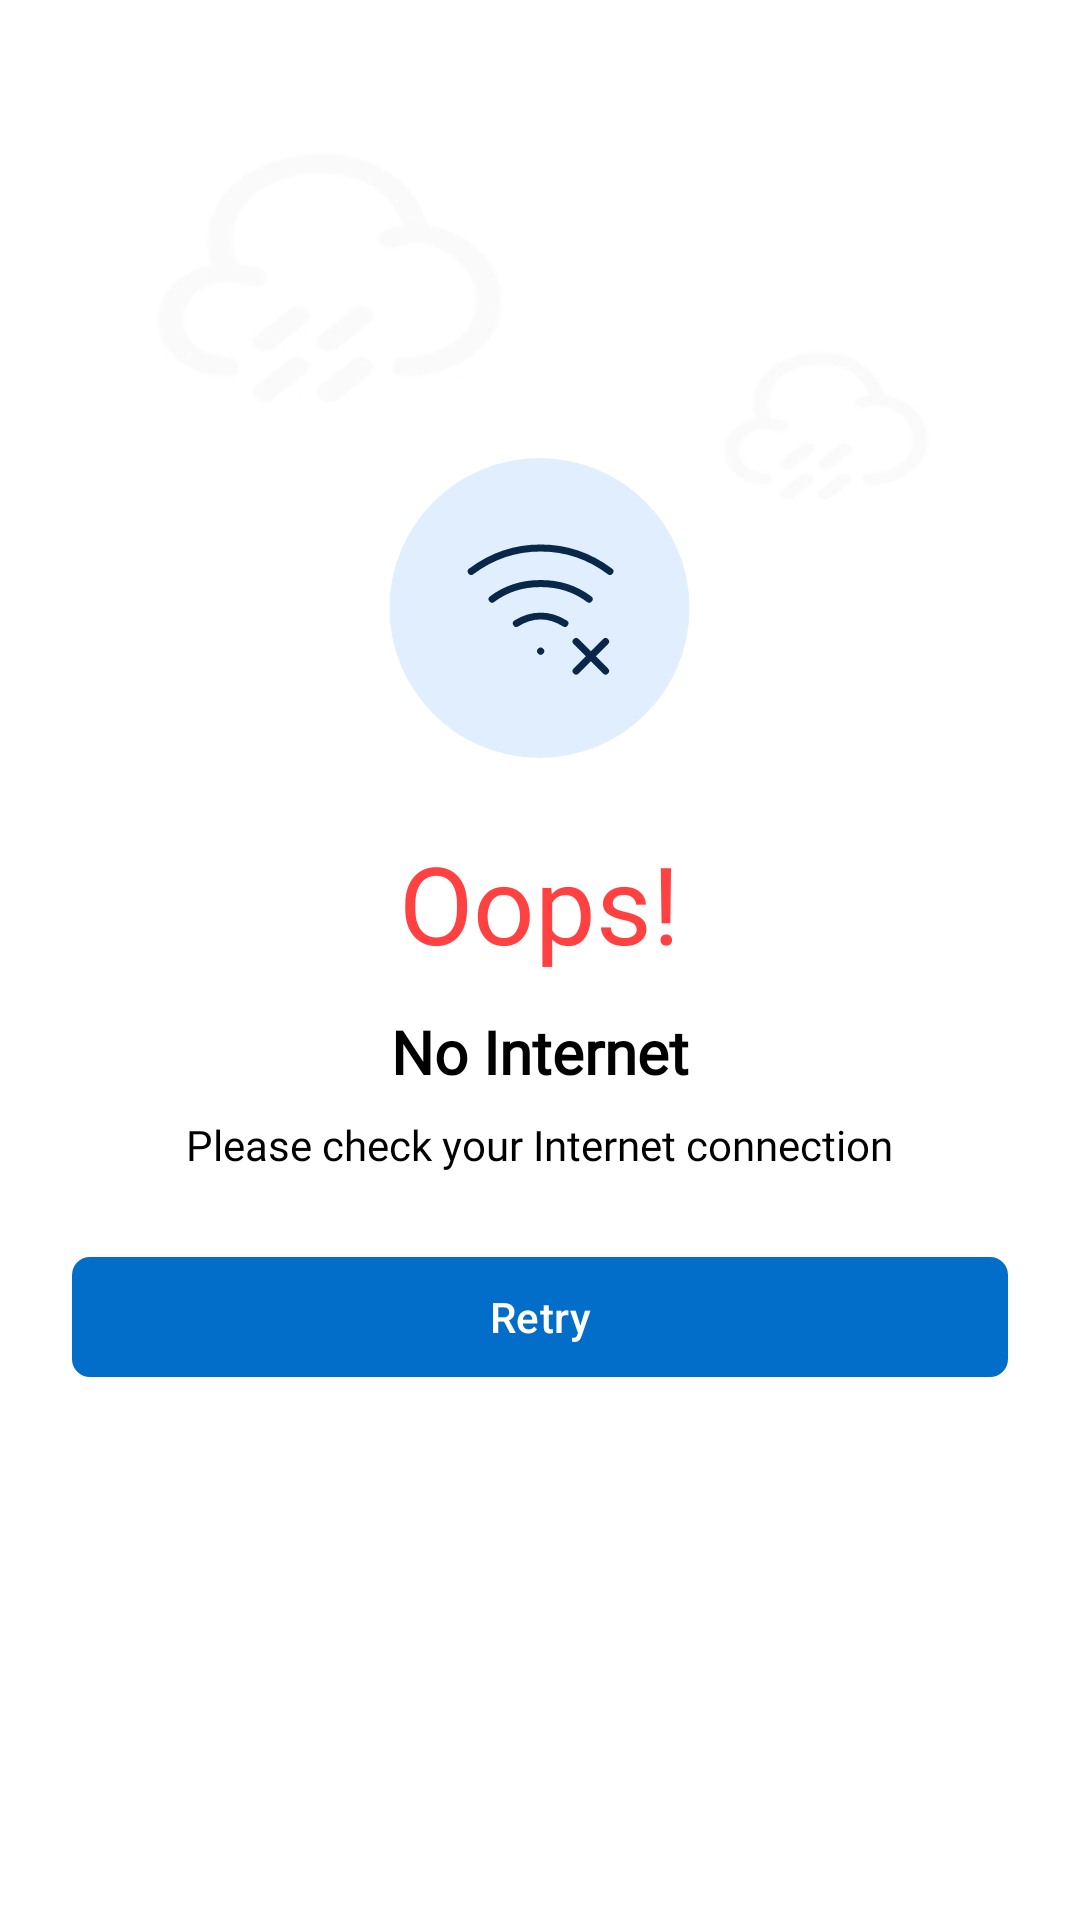

Screen size 1080x1920. Icon name, then its box in pixels as [x1=x1, y1=y1, x2=x2, y2=y2]:
no internet: [x1=390, y1=458, x2=689, y2=758]
